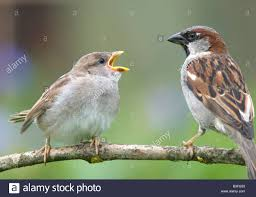hsparrow: (165, 23, 256, 191), (6, 47, 135, 165)
